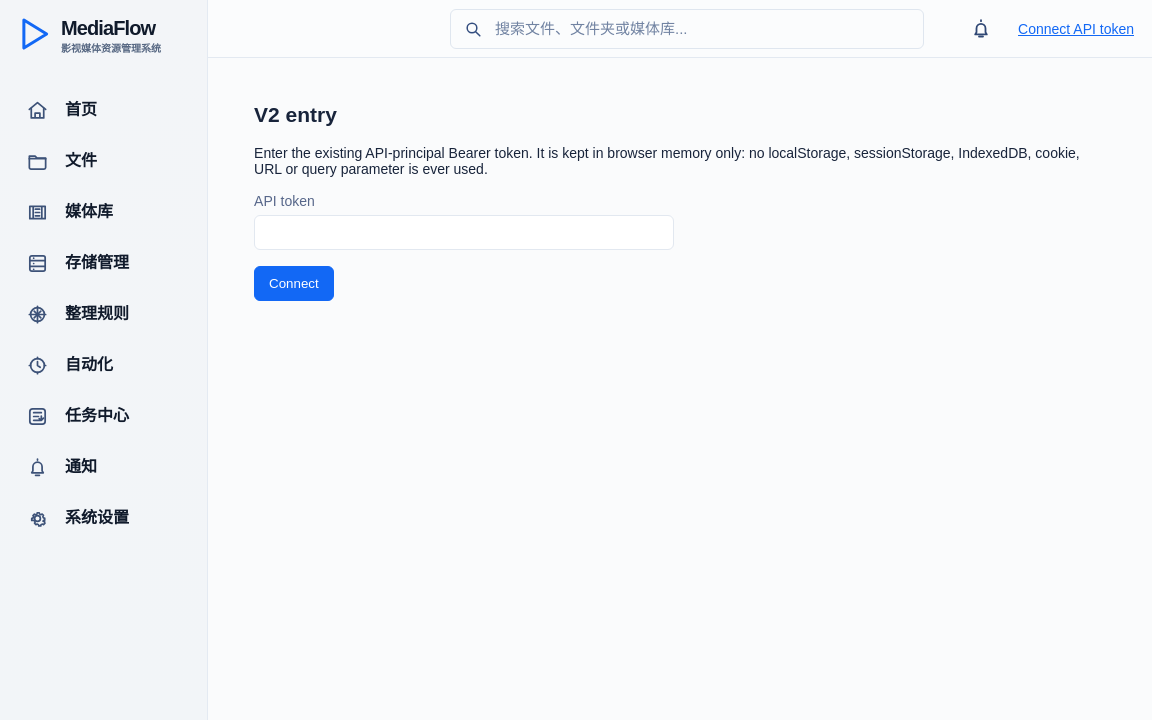
it: EntryPage › connects from root and continues to the Dashboard
Step 1. Type "entry-test-token" into the password field labelled "API token" → [464, 232], box left=254, top=215, right=674, bottom=250
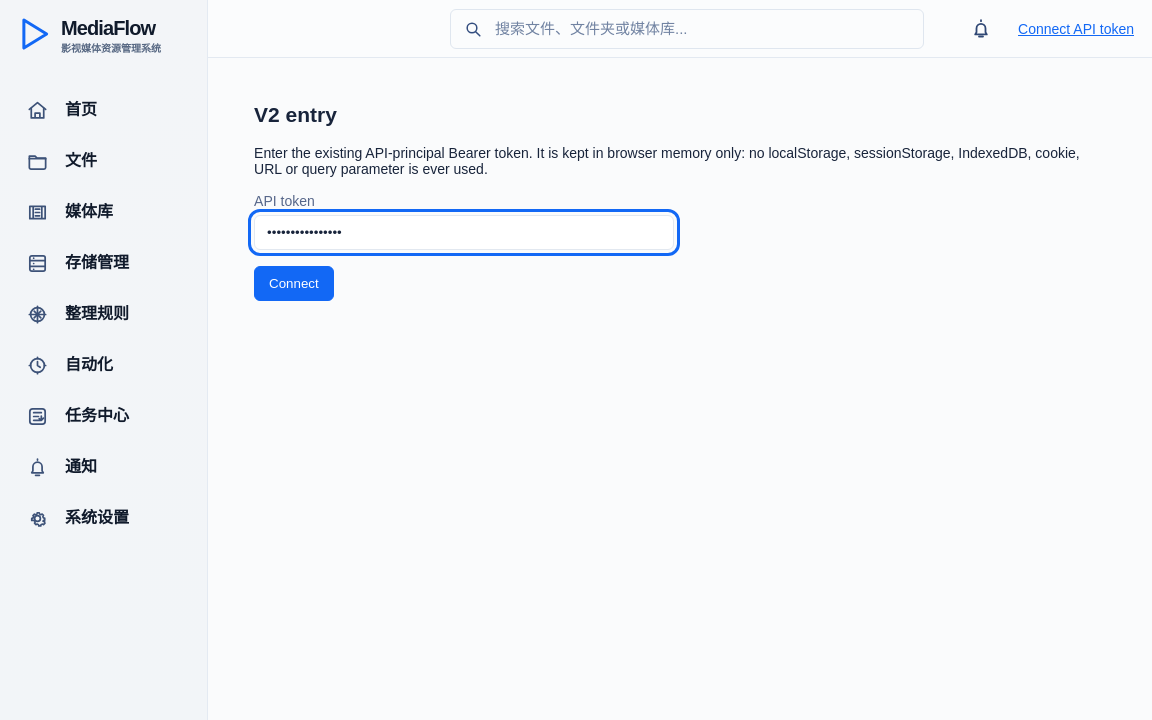
Step 2. Click the button "Connect" → [294, 283], box left=254, top=266, right=334, bottom=301
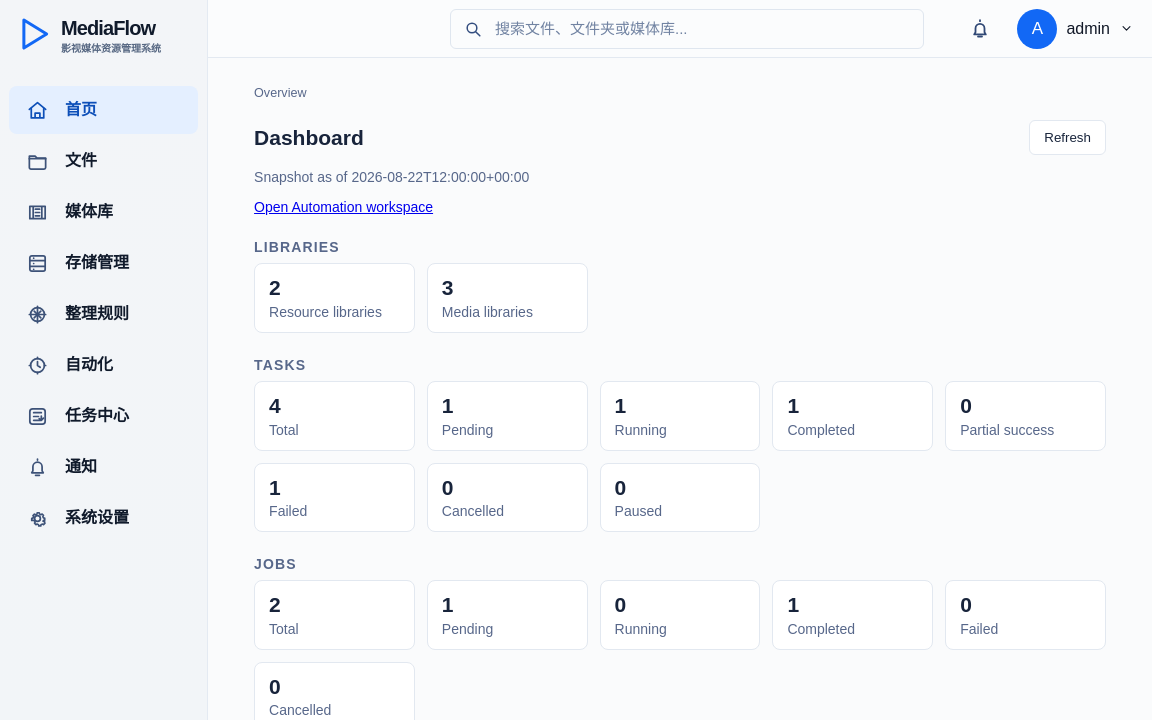
Expected: the heading "Dashboard" is shown, left=254, top=126, right=364, bottom=150
